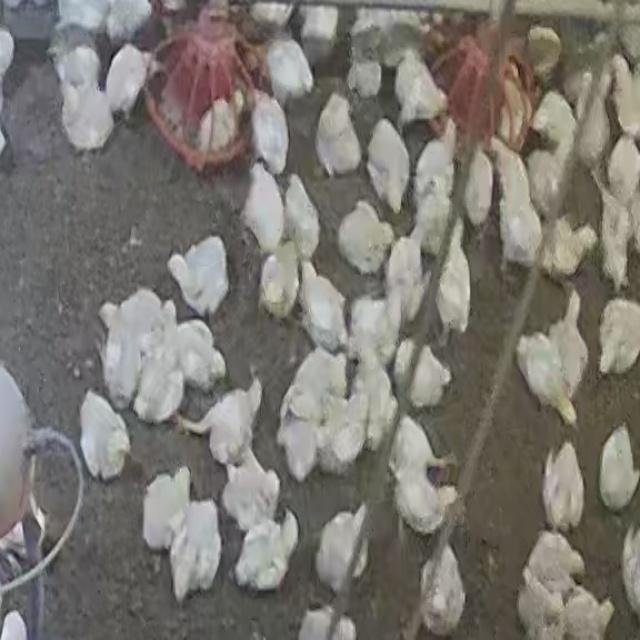chicken: (185, 378, 266, 467), (492, 142, 544, 270), (515, 332, 578, 431), (169, 496, 226, 602), (233, 505, 300, 593), (166, 232, 232, 314), (218, 453, 284, 534), (314, 504, 372, 596), (418, 537, 468, 637), (434, 220, 475, 338), (365, 115, 412, 216), (78, 391, 129, 484), (140, 465, 191, 554), (297, 259, 346, 351), (321, 391, 373, 477), (314, 88, 364, 176), (392, 50, 448, 128), (540, 441, 588, 532), (336, 202, 396, 272), (396, 338, 456, 408), (383, 235, 425, 334), (57, 84, 115, 154), (538, 212, 598, 279), (187, 88, 245, 157), (597, 423, 640, 516), (103, 42, 153, 121), (244, 158, 287, 248), (526, 528, 586, 590), (263, 37, 315, 106), (249, 91, 291, 176), (597, 297, 640, 378), (282, 172, 321, 260), (461, 141, 497, 235), (259, 241, 301, 319), (512, 586, 564, 640), (605, 131, 640, 211), (566, 591, 617, 640), (53, 42, 101, 94)
